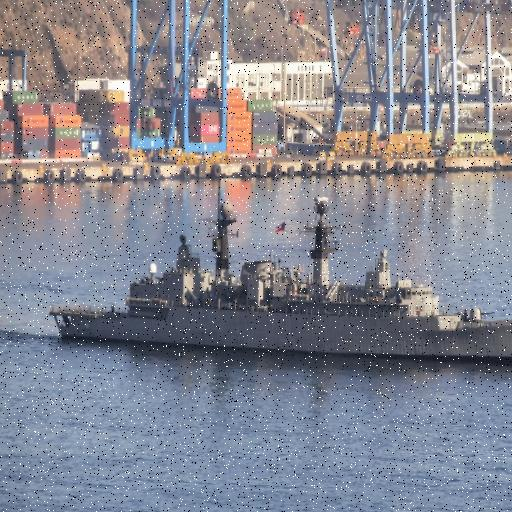Fragata: (44, 186, 512, 370)
